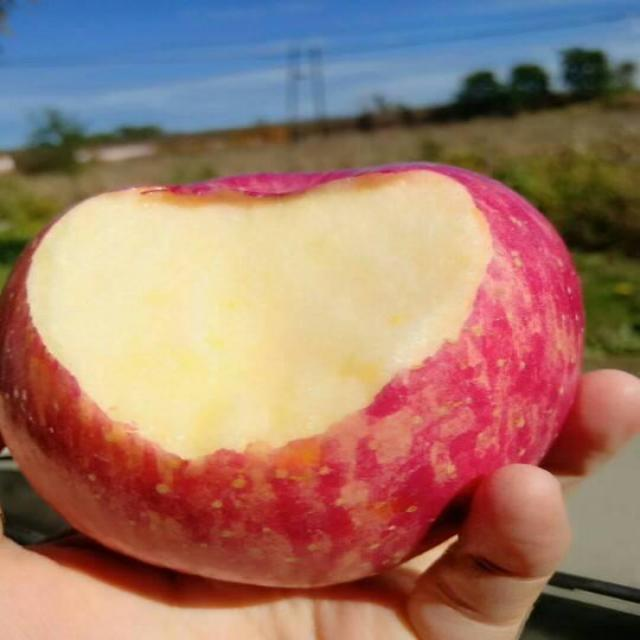Rotten: (21, 166, 572, 582)
